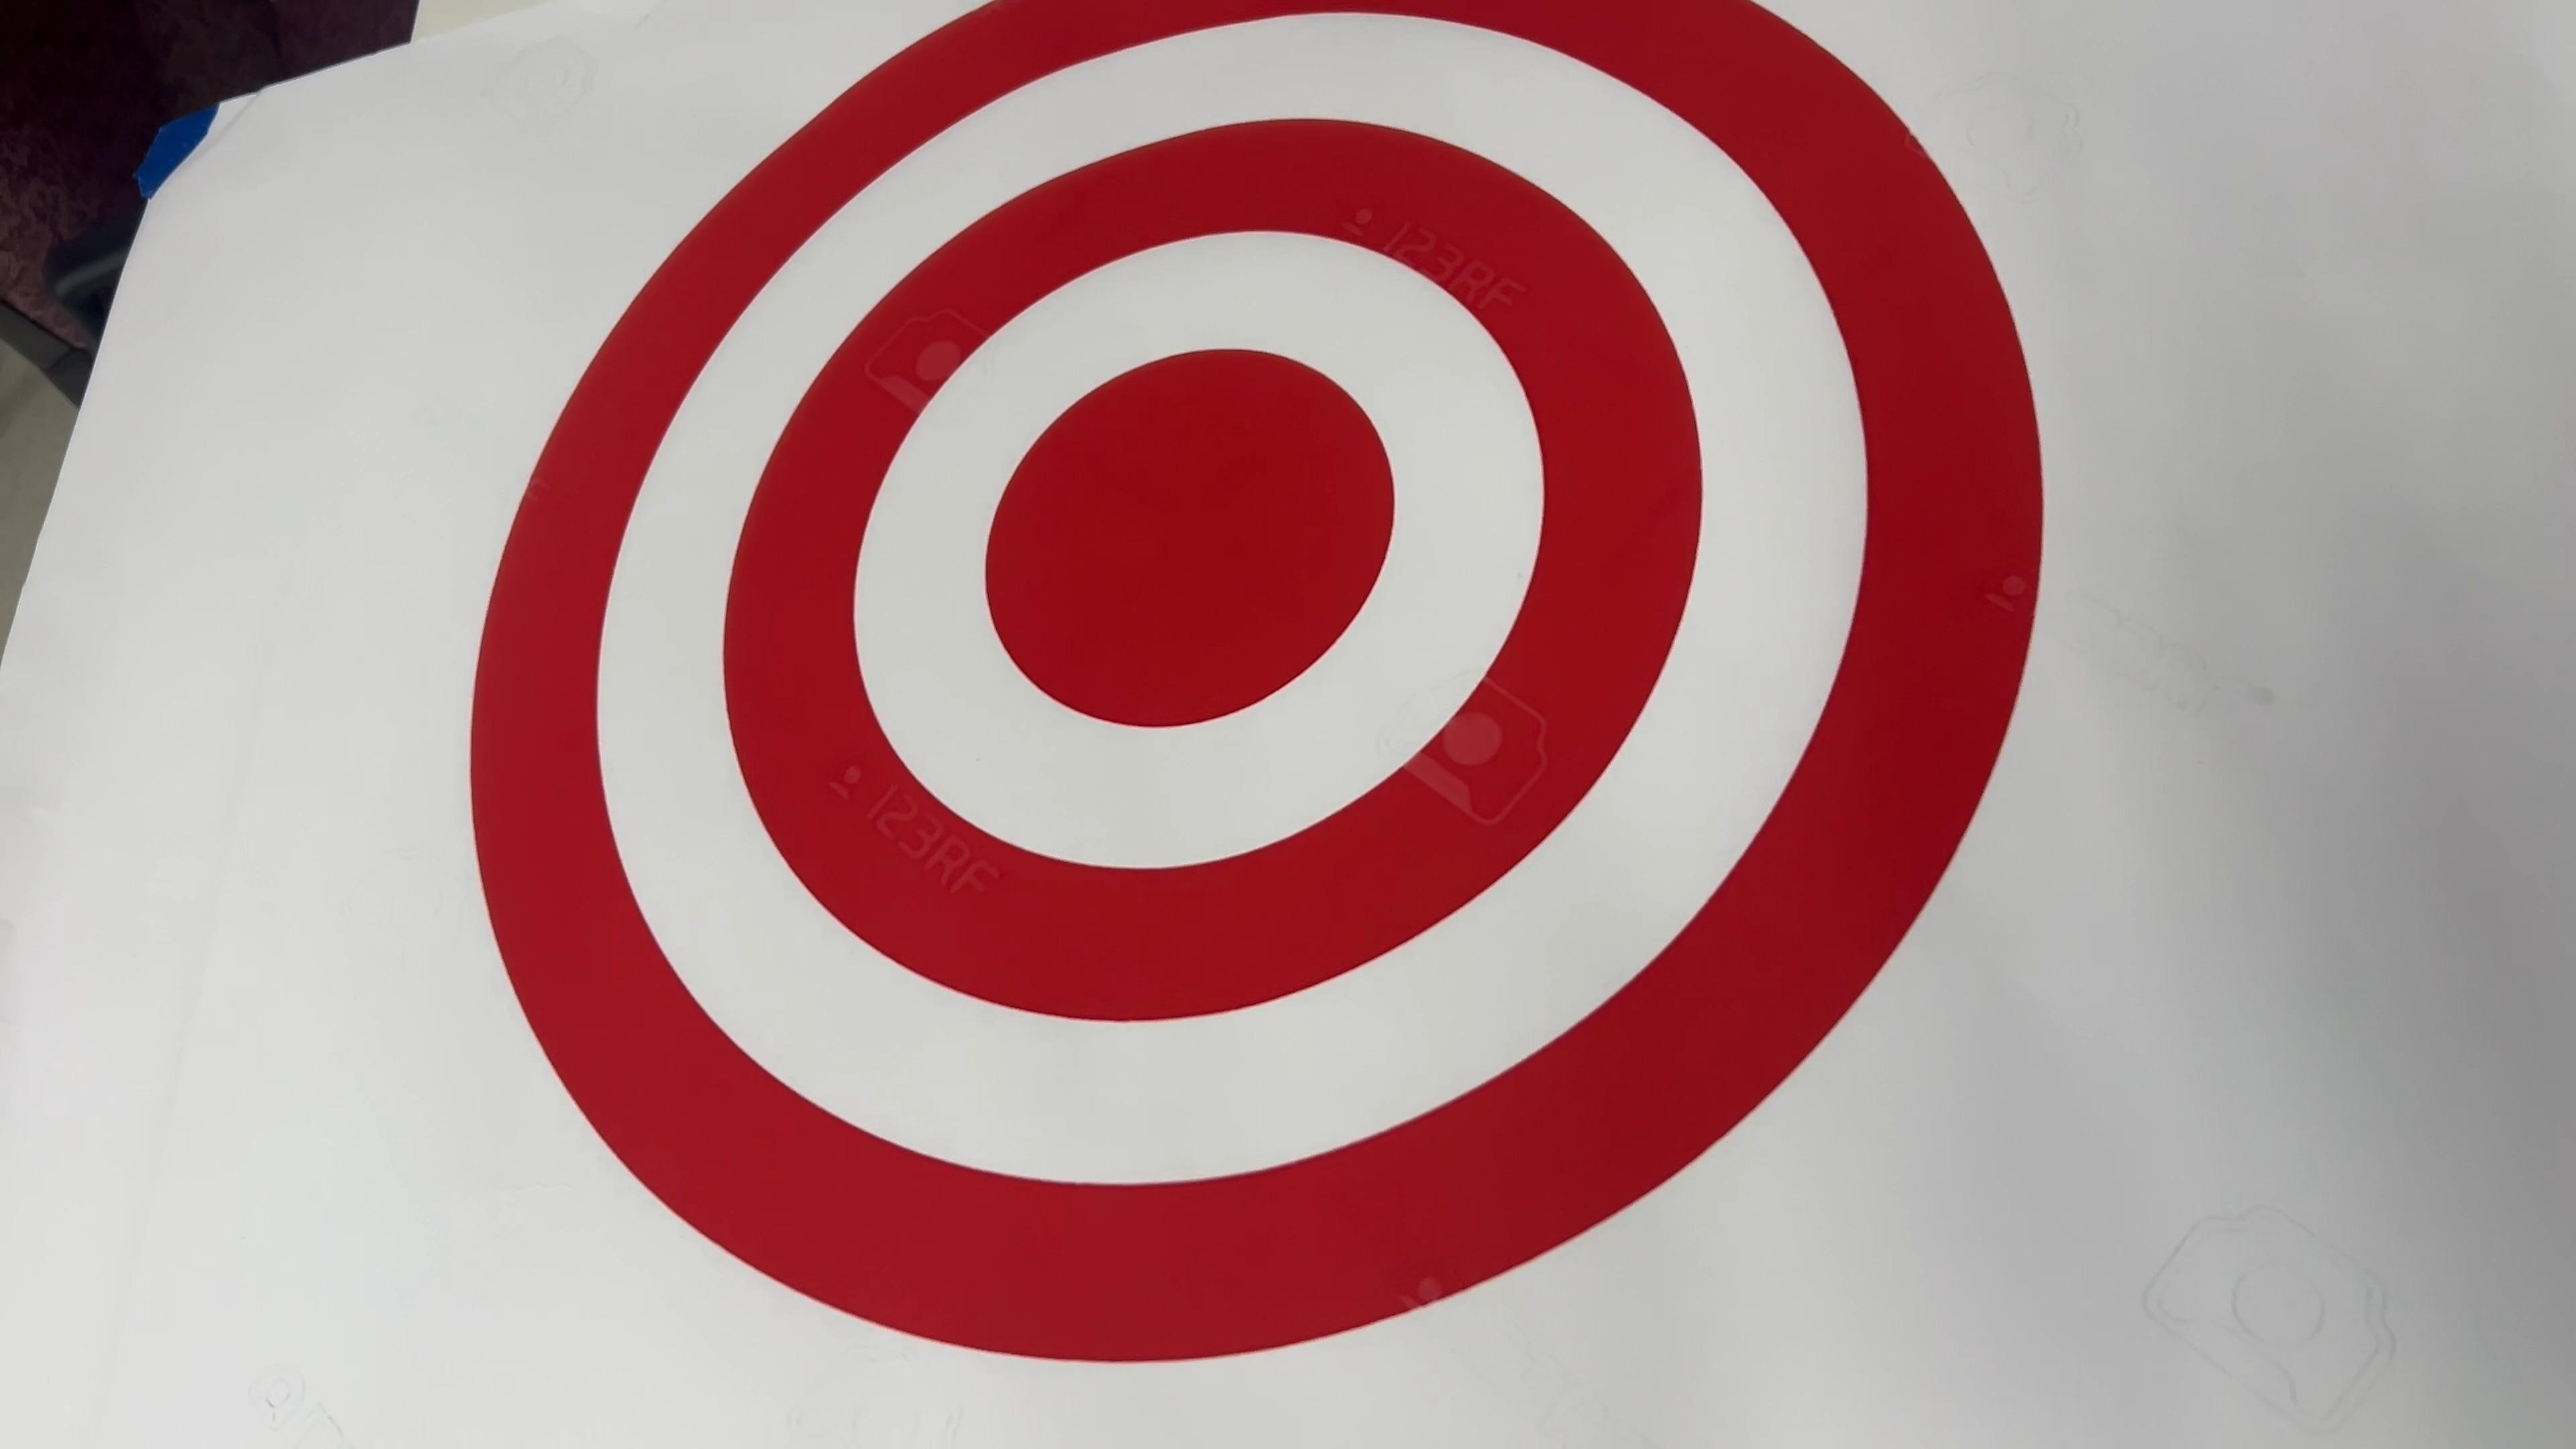target_red: (425, 2, 2086, 1449)
